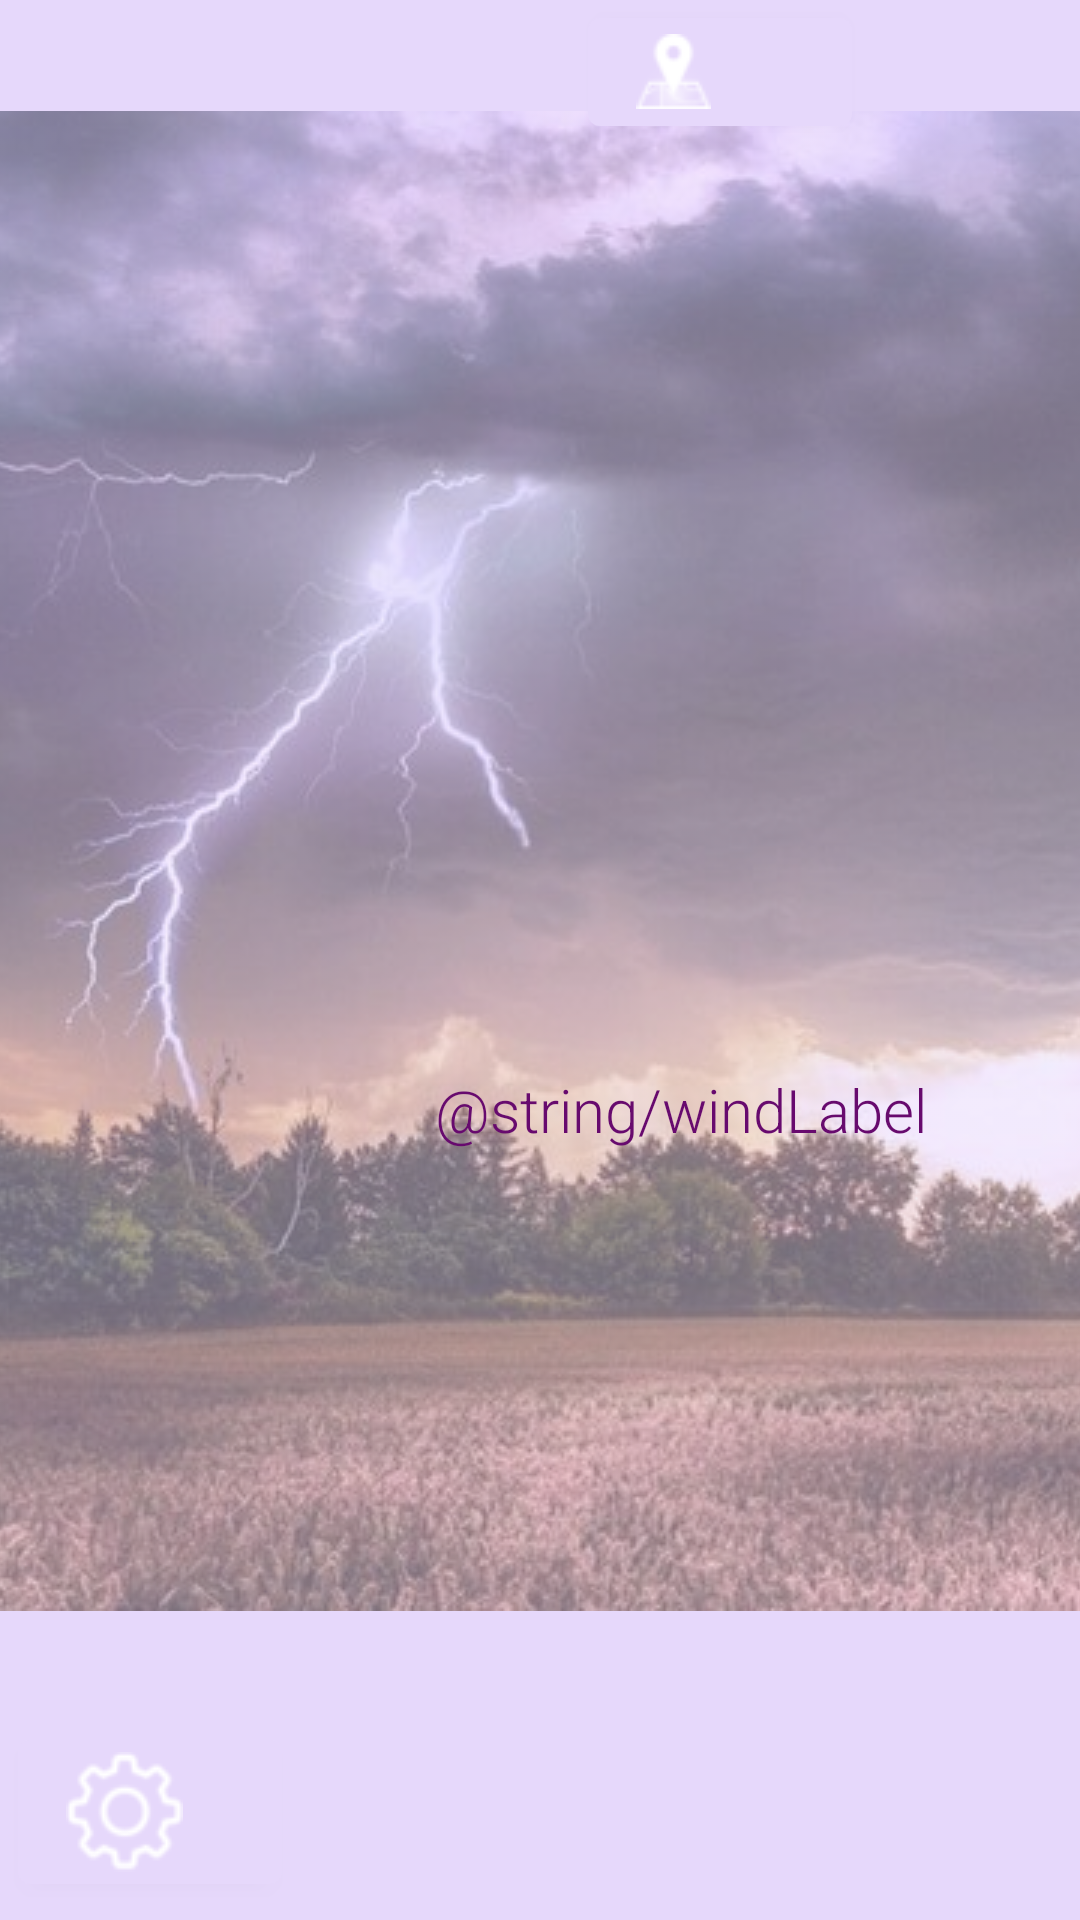

Icons on this 1080w x 1920h Android screen, each with the point to tap as (x,y):
picturepoint: (659,88)
